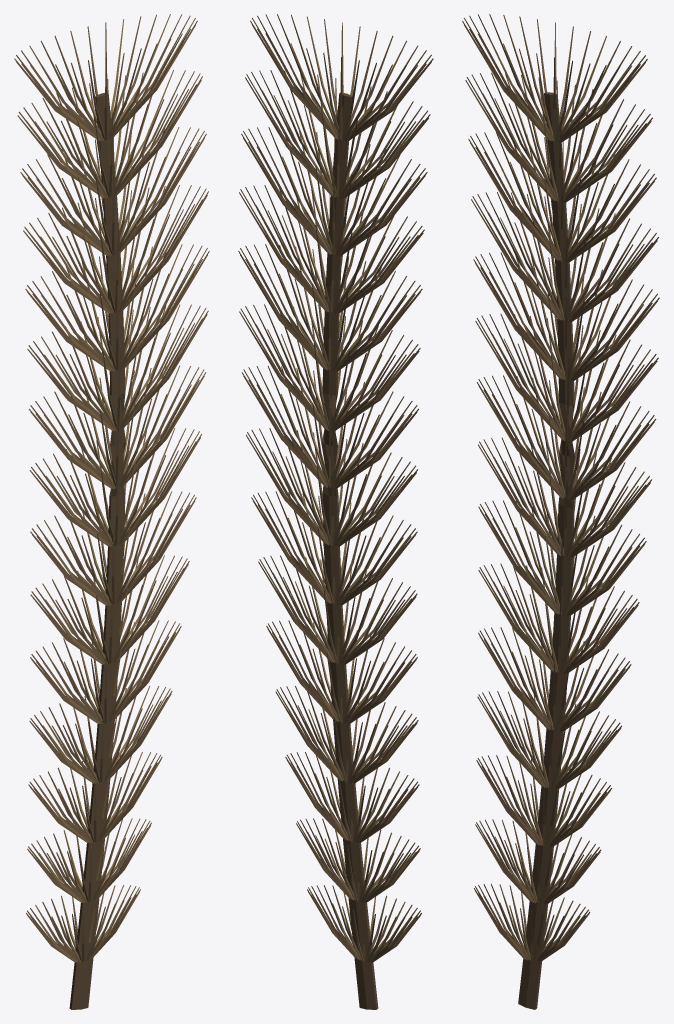
The model's file is chaetocladus.glb.
The picture shows the model from 3 angles, left to right: view 1: azimuth 30°, elevation 25°; view 2: azimuth 150°, elevation 25°; view 3: azimuth 330°, elevation 25°; orthographic projection.
Parts seen in each view (by area): view 1: single-order-whorled-fossil-axis; view 2: single-order-whorled-fossil-axis; view 3: single-order-whorled-fossil-axis.
Boxes of the visible parts, x1,y1,x2,y2 form: single-order-whorled-fossil-axis: (14, 14, 209, 1009); single-order-whorled-fossil-axis: (238, 14, 433, 1009); single-order-whorled-fossil-axis: (462, 14, 659, 1009).
Size of the model in its own units: 0.00886 by 0.0424 by 0.00295.
